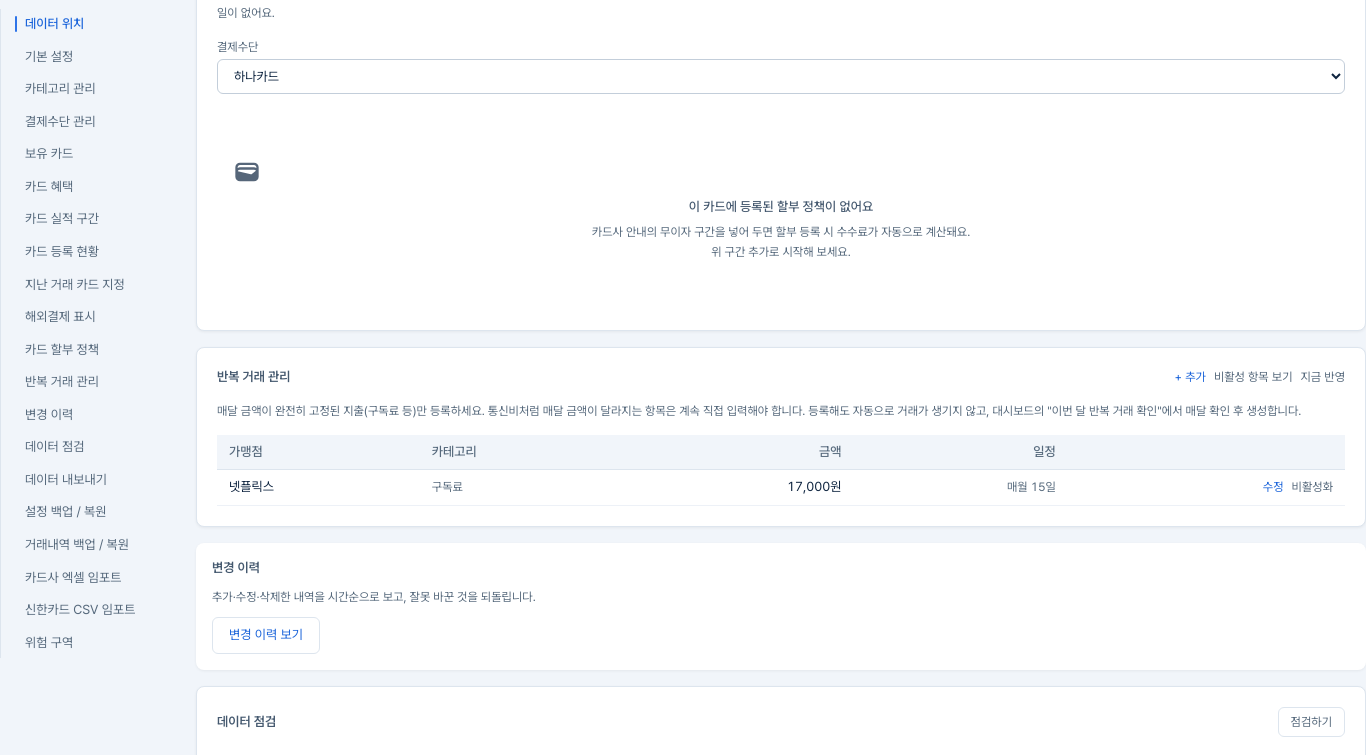
주기에 따라 달라지는 입력 › 월 주기에는 며칠만 묻는다
The image size is (1366, 755).
(page scrolled)
Click the button "+ 추가" at {"x": 1190, "y": 377}, box x1=1175 y1=369 x2=1206 y2=385
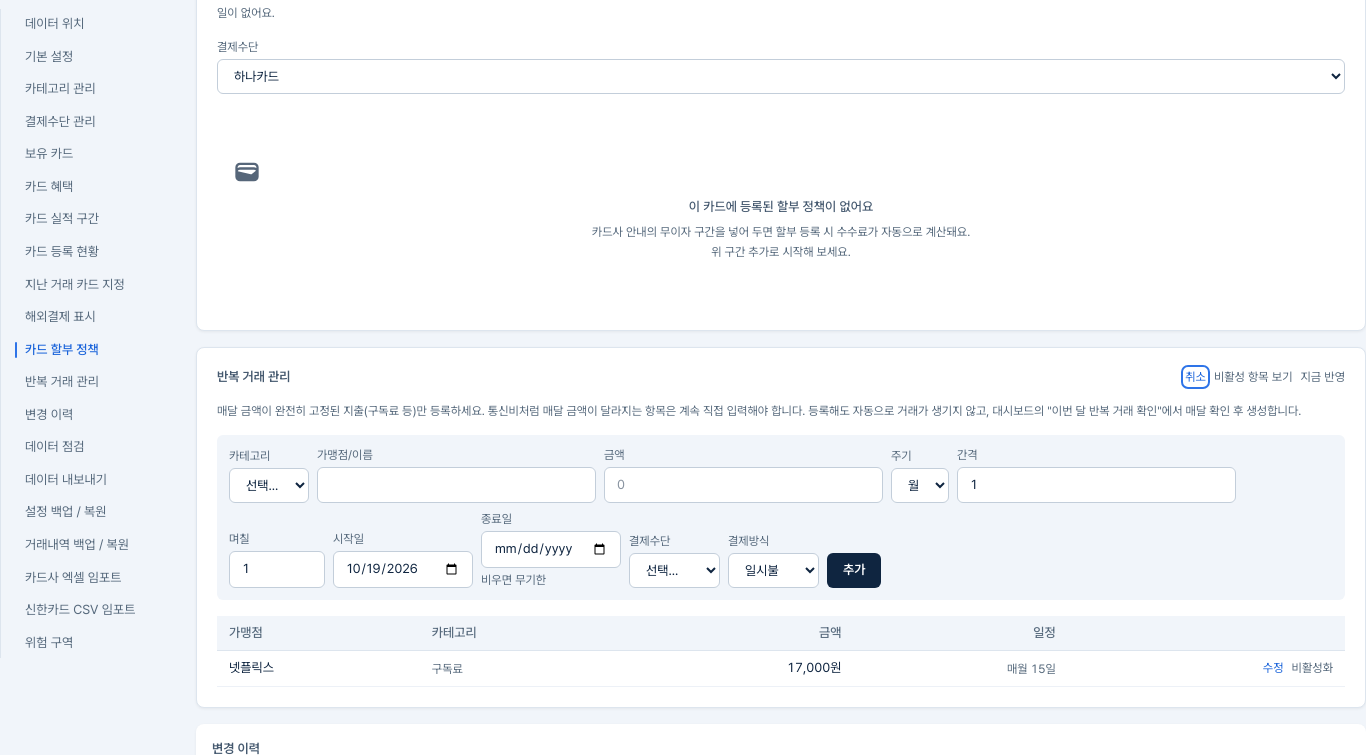
Expected: the dropdown labelled "주기" shows "월", x1=891 y1=468 x2=949 y2=503
Expected: the number field labelled "며칠" is shown, x1=229 y1=551 x2=325 y2=588
